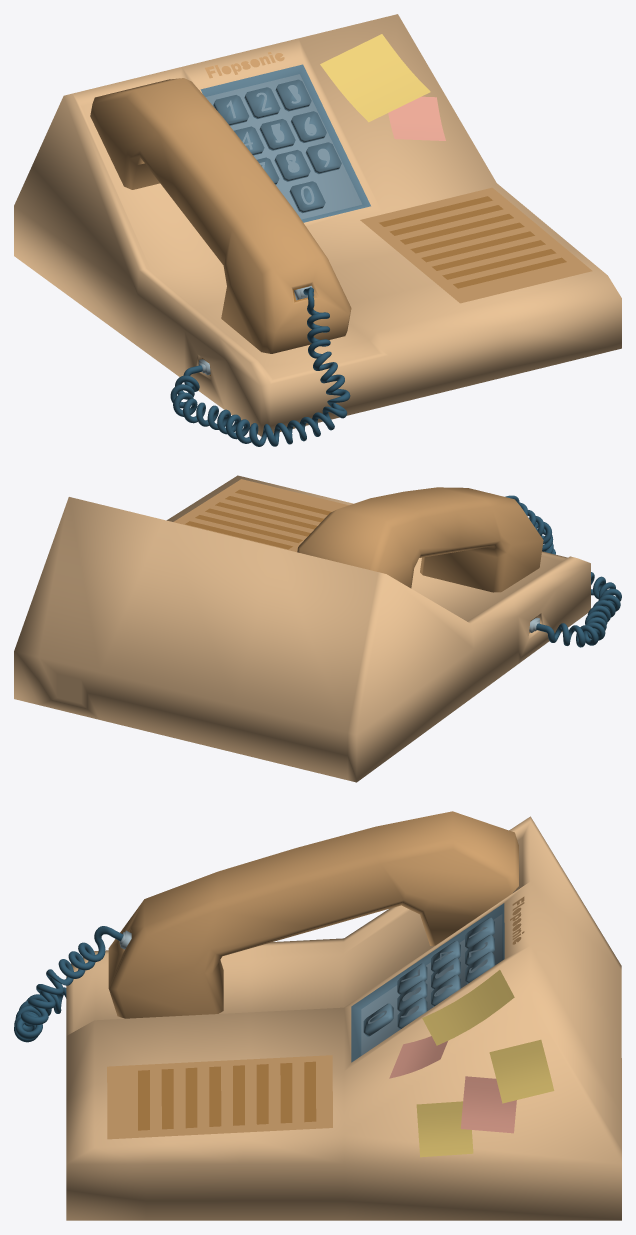
Rendered from Phone.fbx.
The picture shows the model from 3 angles, top to bottom: view 1: azimuth 30°, elevation 25°; view 2: azimuth 150°, elevation 25°; view 3: azimuth 270°, elevation 25°; orthographic projection. The views are drawn at different scales.
Visible parts, largest first — view 1: Phone; view 2: Phone; view 3: Phone.
Part boxes in pixels (x1=…): Phone: x1=14, y1=14, x2=621, y2=446; Phone: x1=14, y1=475, x2=621, y2=782; Phone: x1=14, y1=811, x2=621, y2=1220.
Size of the model in its own units: 321 by 156 by 363.
